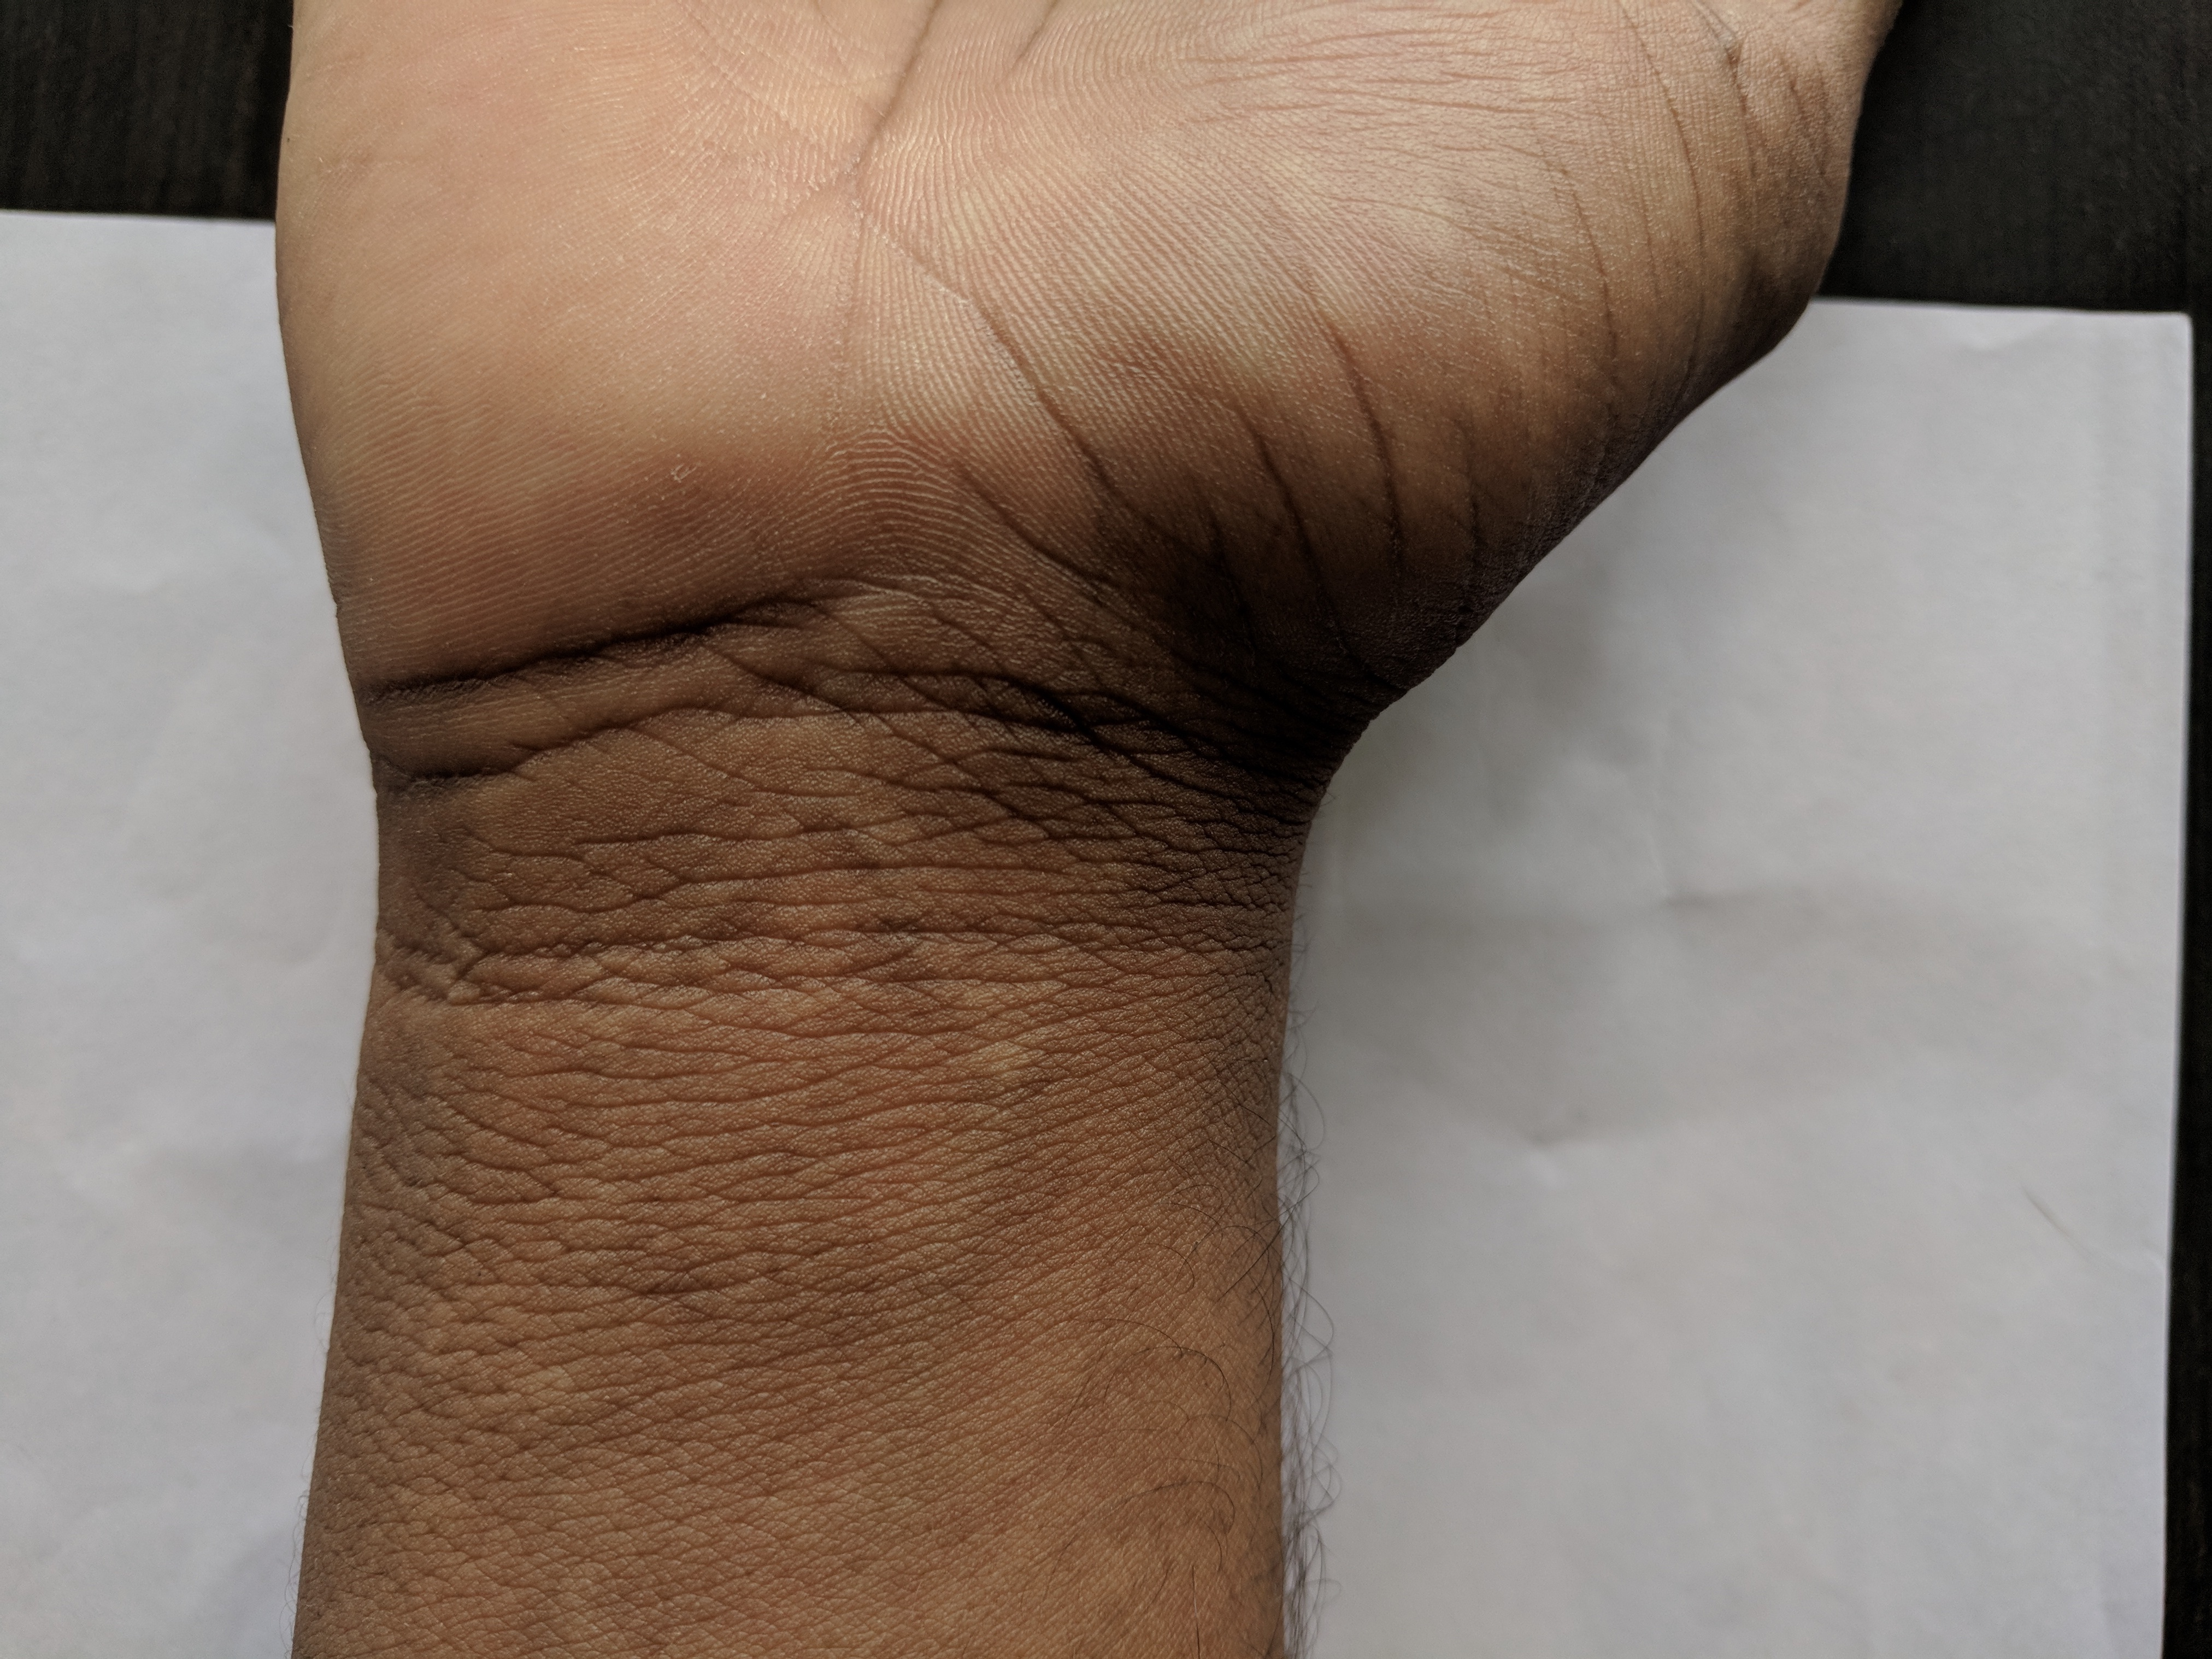righthandwrist: (331, 603, 1498, 1091)
